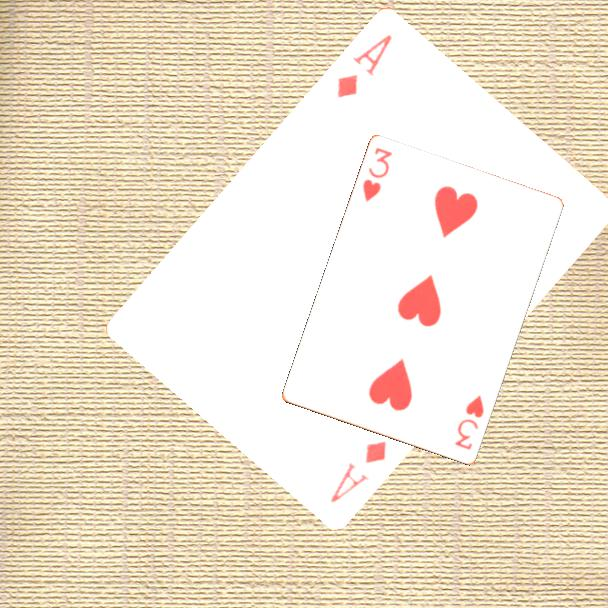d01: (326, 436, 390, 506), (333, 30, 396, 100)
h03: (451, 391, 487, 453), (359, 144, 395, 205)
